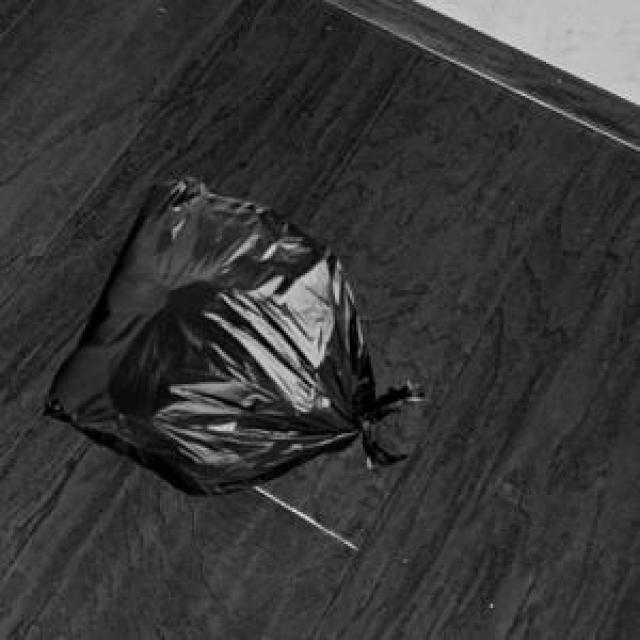miscellaneous trash: (38, 173, 420, 493)
